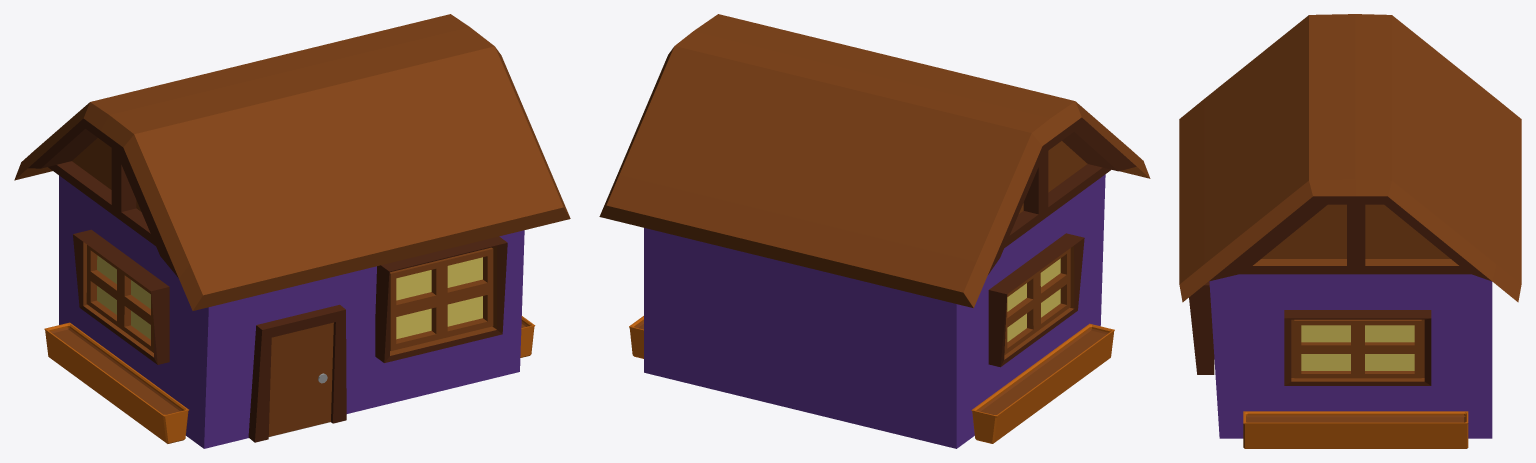
File: SagradoCasaRoxa.fbx
The picture shows the model from 3 angles, left to right: view 1: azimuth 30°, elevation 25°; view 2: azimuth 150°, elevation 25°; view 3: azimuth 270°, elevation 25°; orthographic projection. The views are drawn at different scales.
Visible parts, largest first — view 1: CasaRoxa; view 2: CasaRoxa; view 3: CasaRoxa.
Boxes of the visible parts, x1,y1,x2,y2 form: CasaRoxa: (14,14,570,448); CasaRoxa: (599,14,1150,448); CasaRoxa: (1179,14,1521,448).
Bounding box in the file's own units: 1178 × 853 × 982.
